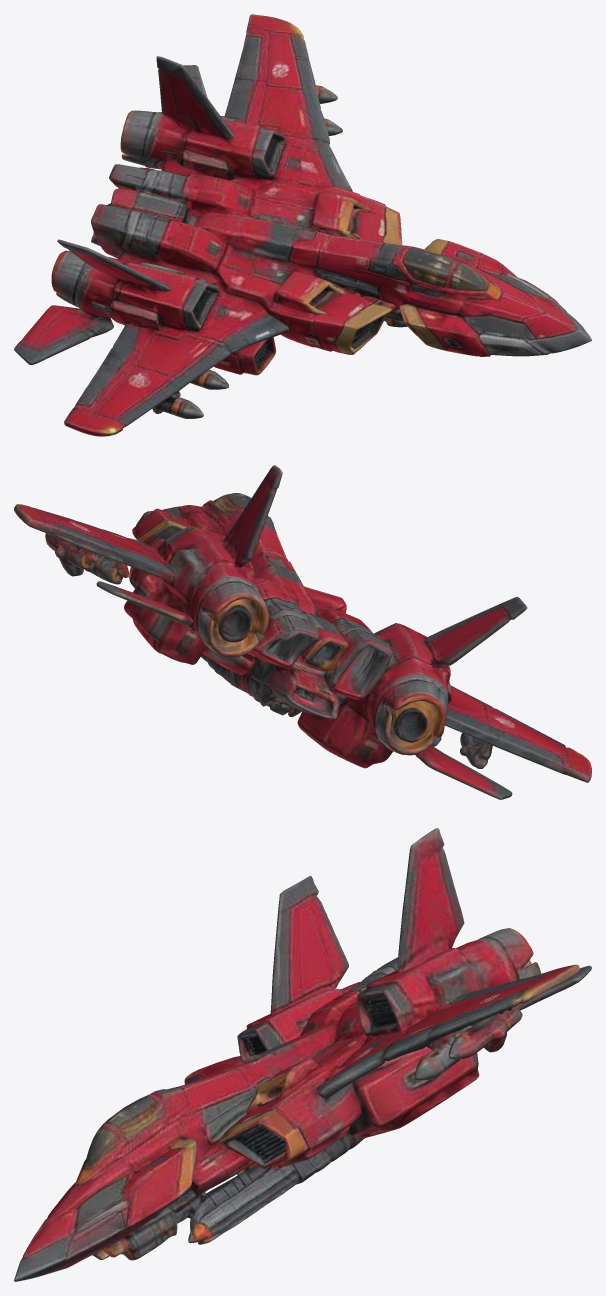
Rendered from ship-vanguard.glb.
The picture shows the model from 3 angles, top to bottom: view 1: azimuth 30°, elevation 25°; view 2: azimuth 150°, elevation 25°; view 3: azimuth 270°, elevation 25°; orthographic projection. The views are drawn at different scales.
Size of the model in its own units: 0.8735 by 0.5278 by 0.7833.
Materials: 1 (1 with a texture image).
